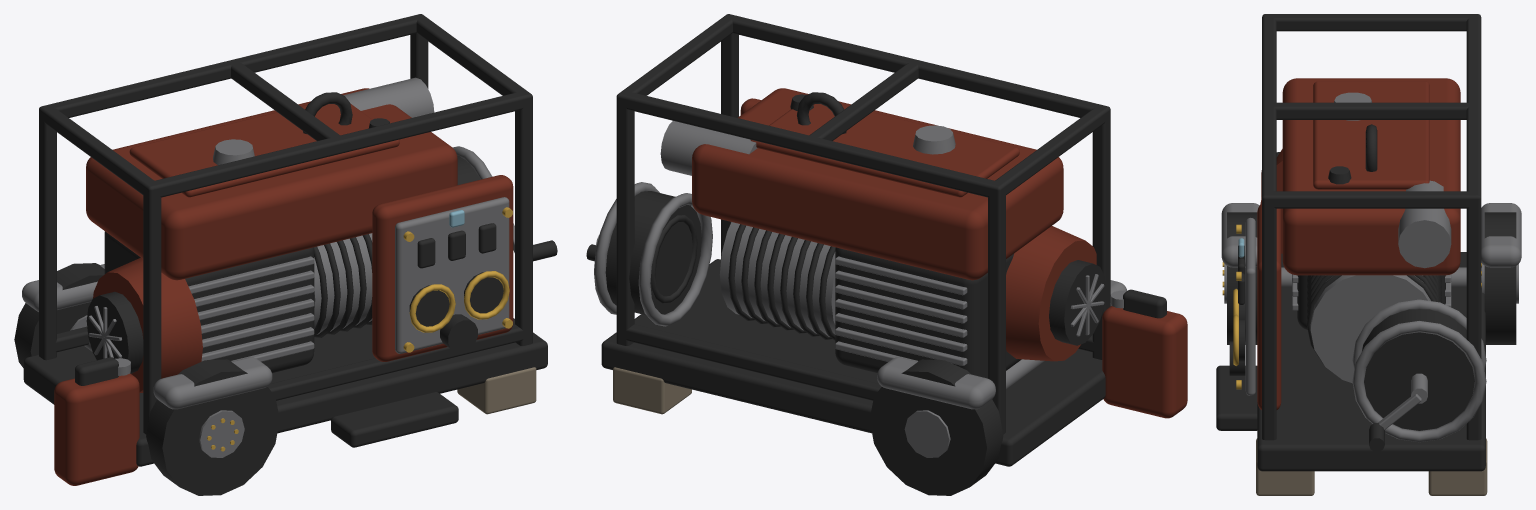
The model's file is generator.glb.
3 renders of one model, left to right at view 1: azimuth 30°, elevation 25°; view 2: azimuth 150°, elevation 25°; view 3: azimuth 270°, elevation 25°, orthographic. The views are drawn at different scales.
Visible parts, largest first — view 1: generator-farm-window, generator-farm-barn-red-dark, generator-farm-metal, generator-farm-stone, generator-farm-gold; view 2: generator-farm-window, generator-farm-barn-red-dark, generator-farm-metal, generator-farm-stone; view 3: generator-farm-window, generator-farm-barn-red-dark, generator-farm-metal, generator-farm-stone, generator-farm-gold.
Boxes of the visible parts, box(x1,y1,x2,y2) form: generator-farm-window: box(14, 14, 557, 495); generator-farm-barn-red-dark: box(54, 88, 513, 485); generator-farm-metal: box(22, 77, 514, 457); generator-farm-stone: box(457, 367, 536, 414); generator-farm-gold: box(207, 207, 512, 451); generator-farm-window: box(586, 14, 1166, 495); generator-farm-barn-red-dark: box(692, 88, 1187, 418); generator-farm-metal: box(594, 121, 1127, 457); generator-farm-stone: box(613, 367, 691, 414); generator-farm-window: box(1216, 14, 1516, 471); generator-farm-barn-red-dark: box(1257, 78, 1460, 409); generator-farm-metal: box(1221, 92, 1521, 442); generator-farm-stone: box(1256, 438, 1487, 495); generator-farm-gold: box(1222, 224, 1481, 389).
Size of the model in its own units: 4.61 by 2.5 by 2.3.
